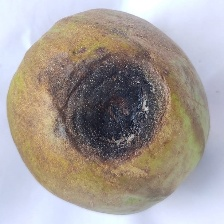guava: (39, 20, 209, 206)
